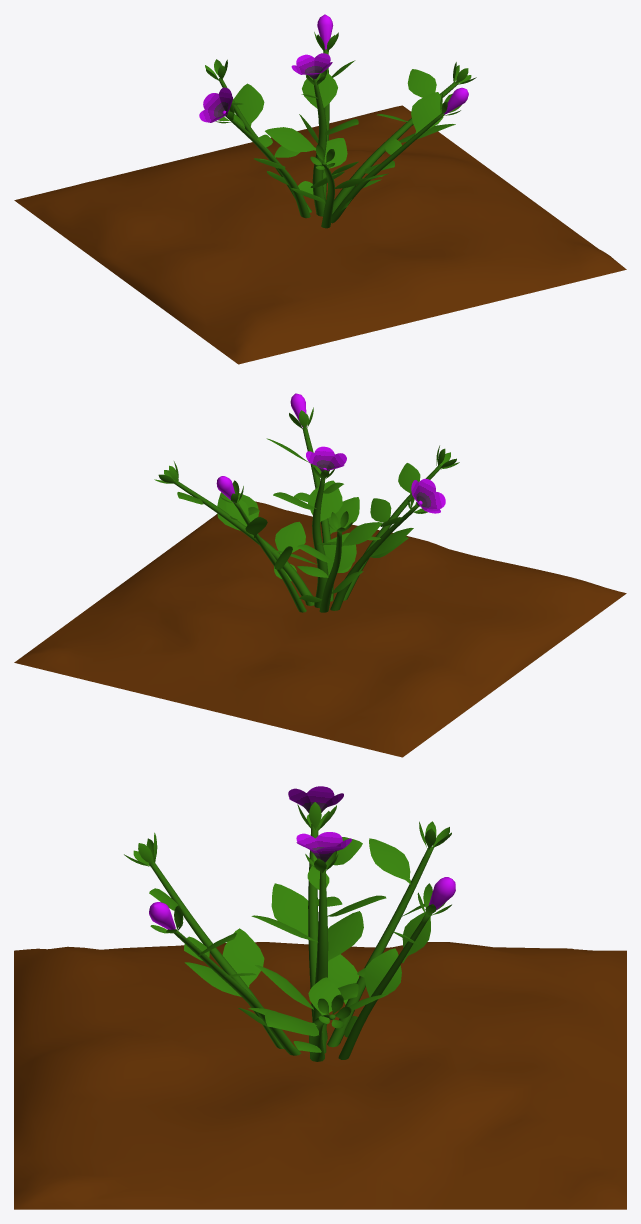
Rendered from petunia-p2-bloom.glb.
3 renders of one model, top to bottom at view 1: azimuth 30°, elevation 25°; view 2: azimuth 150°, elevation 25°; view 3: azimuth 270°, elevation 25°, orthographic. The views are drawn at different scales.
Parts seen in each view (by area): view 1: 2_nft_bloom; view 2: 2_nft_bloom; view 3: 2_nft_bloom.
Boxes of the visible parts, x1,y1,x2,y2 form: 2_nft_bloom: (14, 14, 626, 364); 2_nft_bloom: (14, 393, 626, 757); 2_nft_bloom: (14, 786, 626, 1209).
Bounding box in the file's own units: 0.7 × 0.3026 × 0.7.
Materials: 5 (1 with a texture image).
